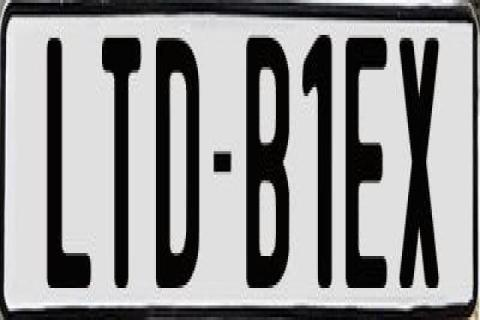0: (302, 32, 338, 285)
B: (242, 29, 286, 285)
D: (156, 29, 206, 282)
E: (346, 38, 392, 302)
L: (47, 38, 94, 302)
T: (98, 38, 140, 291)
X: (396, 32, 436, 282)
